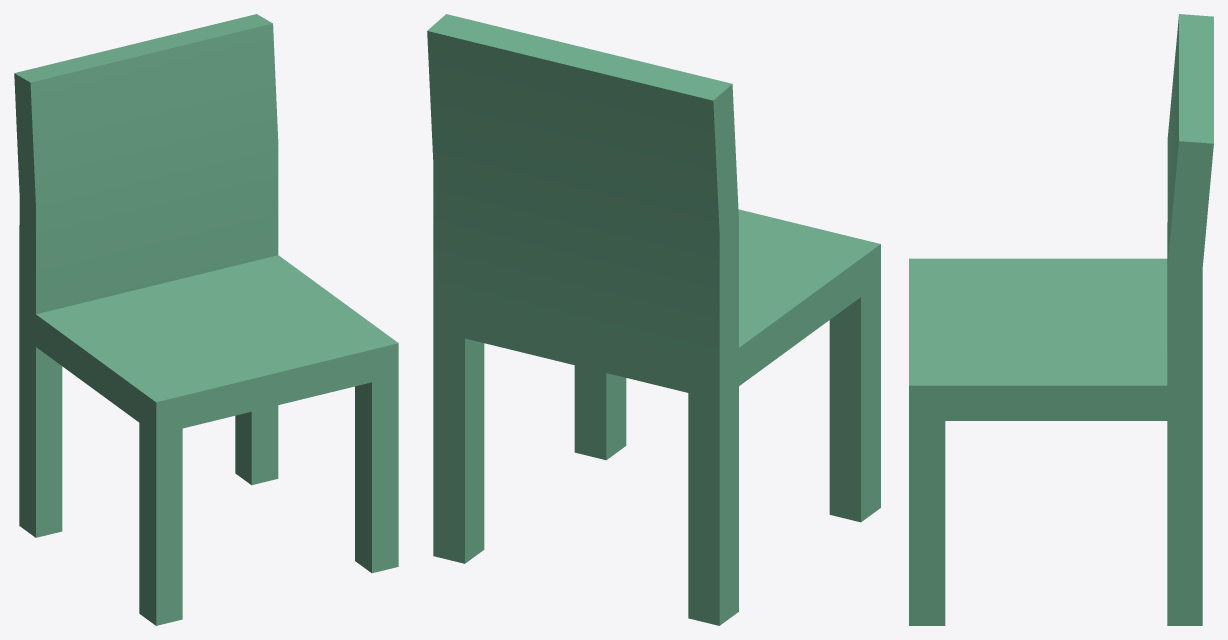
Rendered from Chair_small_511_499_910.fbx.
3 views of the same model, side by side, from view 1: azimuth 30°, elevation 25°; view 2: azimuth 150°, elevation 25°; view 3: azimuth 270°, elevation 25° (orthographic). The views are drawn at different scales.
Parts seen in each view (by area): view 1: Chair_small_511_499_910; view 2: Chair_small_511_499_910; view 3: Chair_small_511_499_910.
Boxes of the visible parts, <box> form: Chair_small_511_499_910: <box>14,14,398,625</box>; Chair_small_511_499_910: <box>427,14,880,625</box>; Chair_small_511_499_910: <box>909,14,1213,625</box>.
Bounding box in the file's own units: 51.17 × 90.99 × 51.86.
